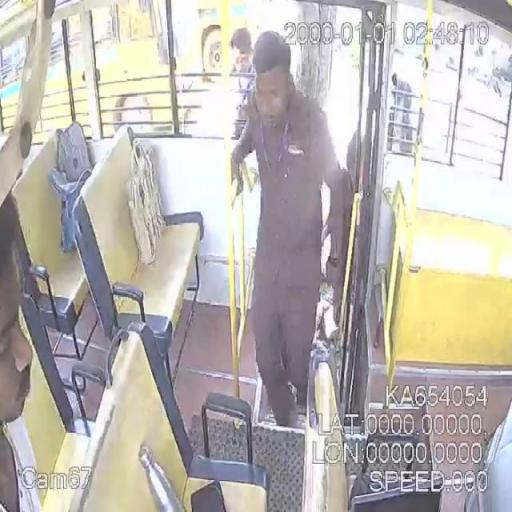persona: (229, 30, 352, 428), (0, 191, 38, 512)
